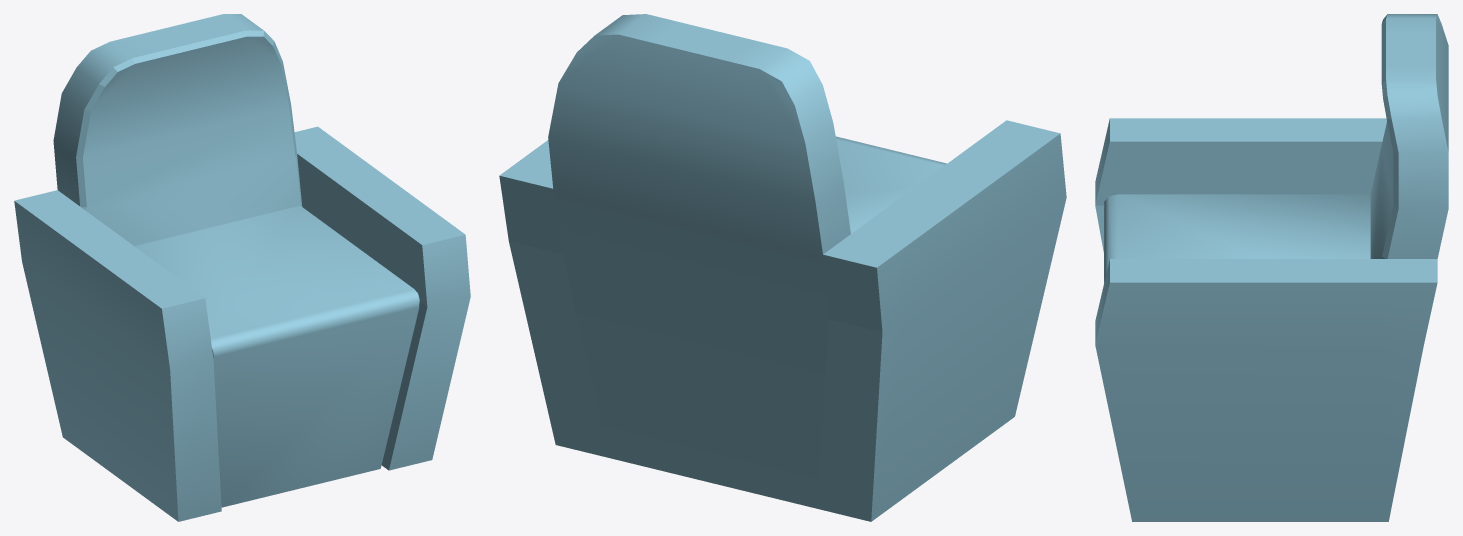
File: SL_chair.FBX
3 views of the same model, side by side, from view 1: azimuth 30°, elevation 25°; view 2: azimuth 150°, elevation 25°; view 3: azimuth 270°, elevation 25° (orthographic). The views are drawn at different scales.
Parts seen in each view (by area): view 1: chairBase, chairSide; view 2: chairBase, chairSide; view 3: chairSide, chairBase.
Part boxes in pixels (x1=…): chairBase: x1=53, y1=14, x2=419, y2=507; chairSide: x1=14, y1=126, x2=470, y2=521; chairBase: x1=548, y1=14, x2=946, y2=508; chairSide: x1=499, y1=120, x2=1066, y2=521; chairSide: x1=1095, y1=118, x2=1437, y2=521; chairBase: x1=1104, y1=14, x2=1448, y2=282.
Bounding box in the file's own units: 0.7 × 0.8 × 0.6359.
